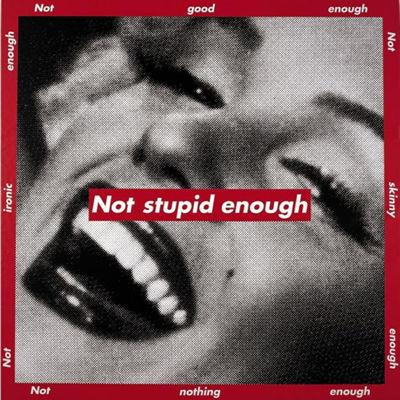person: (17, 15, 385, 386)
